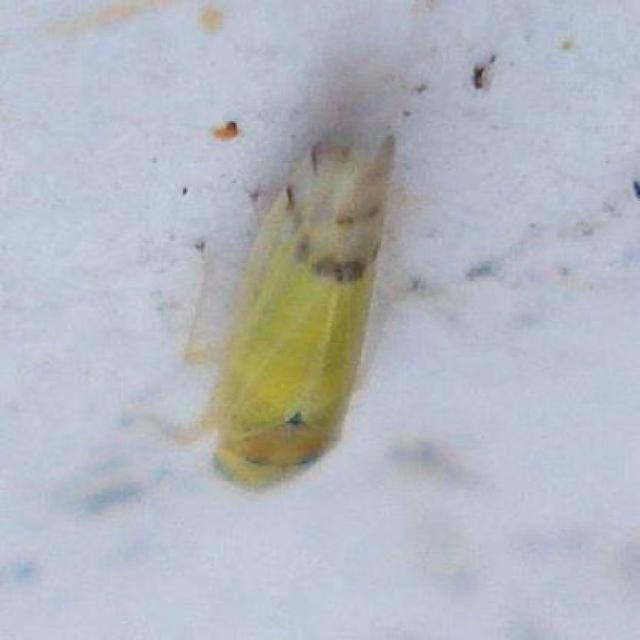green-leafhopper: (169, 131, 389, 491)
